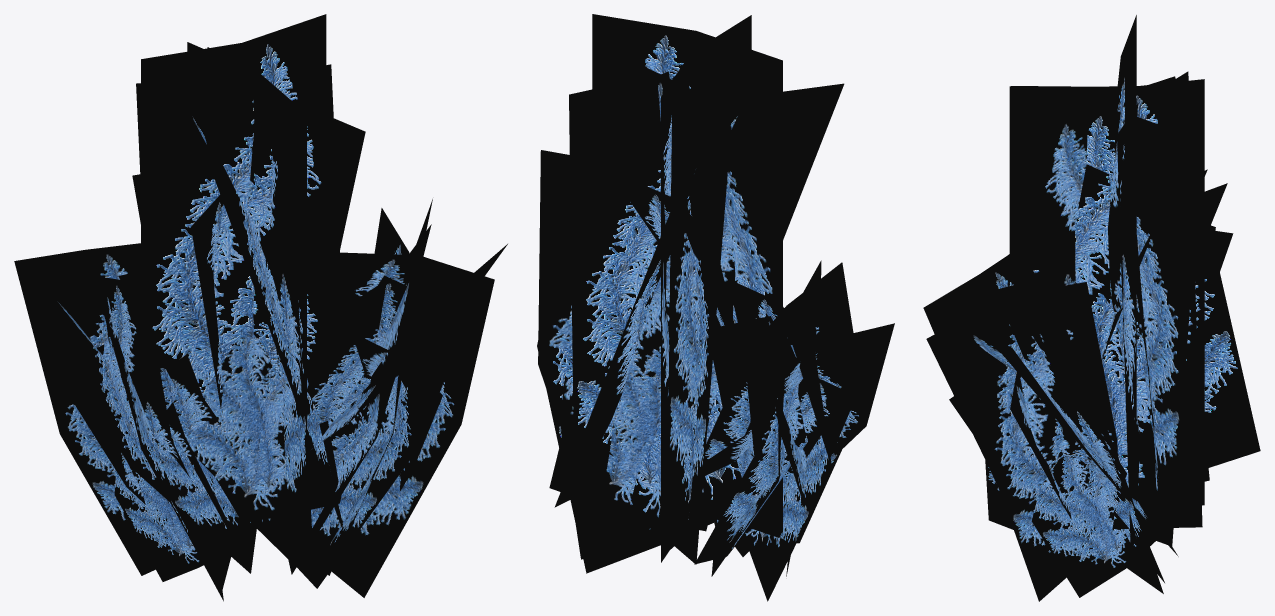
The model's file is plante_5_4.FBX.
3 views of the same model, side by side, from view 1: azimuth 30°, elevation 25°; view 2: azimuth 150°, elevation 25°; view 3: azimuth 270°, elevation 25° (orthographic). The views are drawn at different scales.
Visible parts, largest first — view 1: Plane448; view 2: Plane448; view 3: Plane448.
Boxes of the visible parts, left/top/right/bottom form: Plane448: left=14, top=14, right=507, bottom=601; Plane448: left=537, top=14, right=894, bottom=601; Plane448: left=923, top=15, right=1260, bottom=601.
Bounding box in the file's own units: 293 × 370 × 222.
